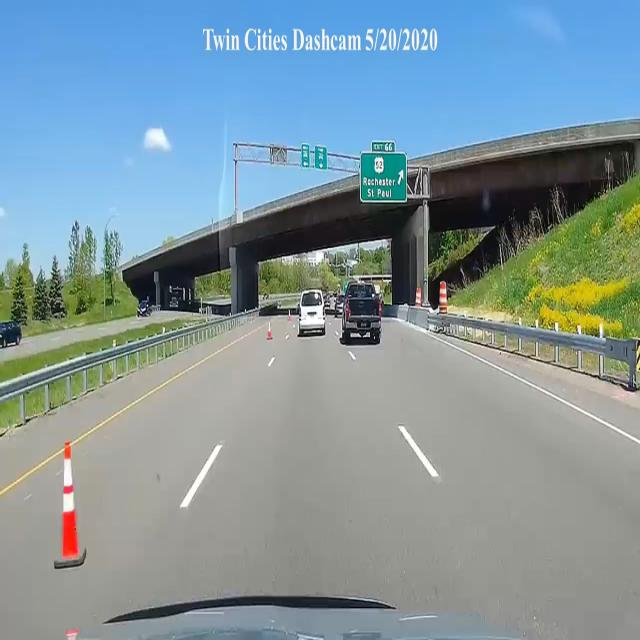cone: (54, 441, 82, 567), (266, 321, 274, 341)
